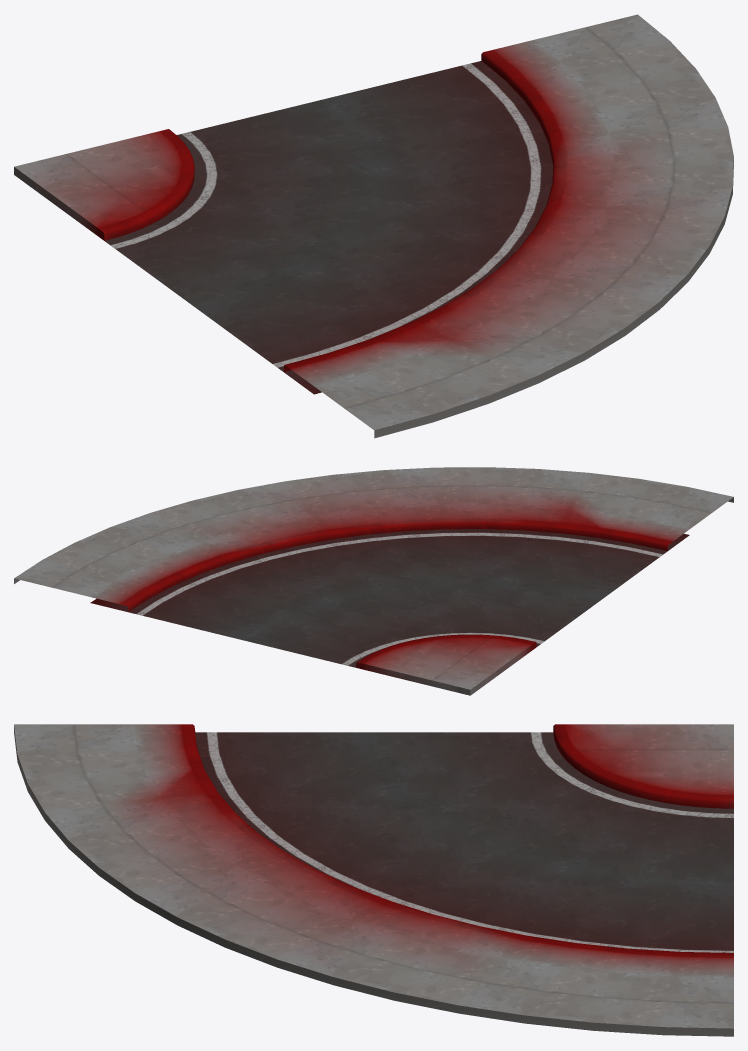
File: street_curve_2lane.glb
3 views of the same model, one above another, from view 1: azimuth 30°, elevation 25°; view 2: azimuth 150°, elevation 25°; view 3: azimuth 270°, elevation 25° (orthographic). The views are drawn at different scales.
Visible parts, largest first — view 1: Street_Curve_2Lane; view 2: Street_Curve_2Lane; view 3: Street_Curve_2Lane.
Boxes of the visible parts, box(x1,y1,x2,y2) form: Street_Curve_2Lane: box(14, 14, 733, 438); Street_Curve_2Lane: box(14, 467, 733, 695); Street_Curve_2Lane: box(14, 724, 733, 1036).
Bounding box in the file's own units: 12 × 0.15 × 12.
3 materials, 3 textured.
